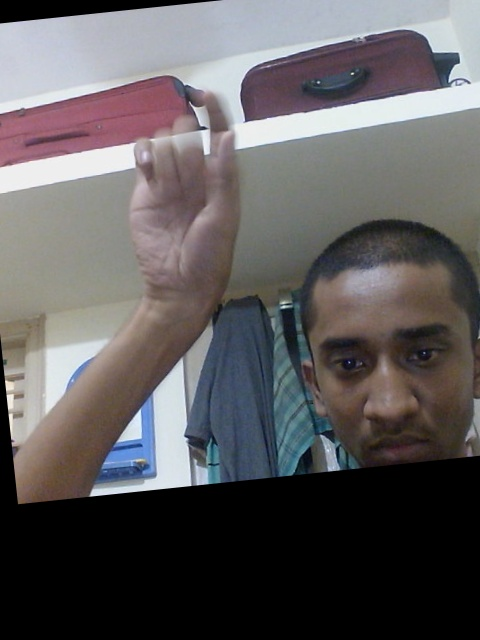hand: (124, 89, 248, 332)
